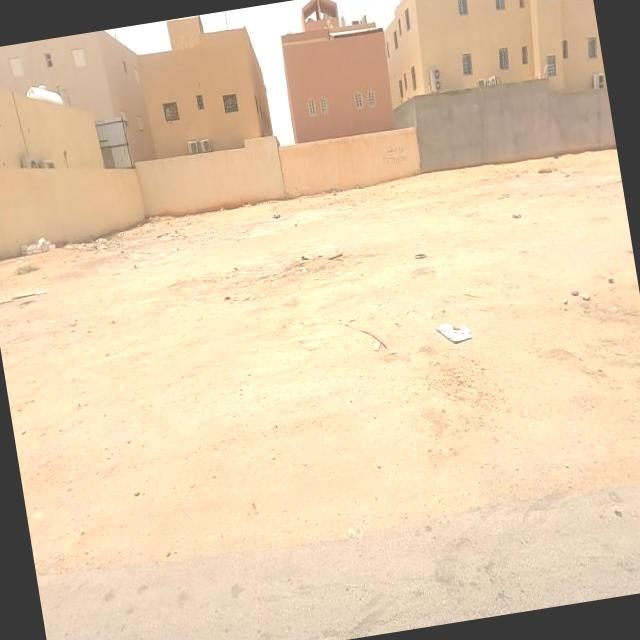debris: (411, 276, 506, 394), (0, 192, 85, 303), (70, 183, 149, 302), (342, 294, 418, 388)
